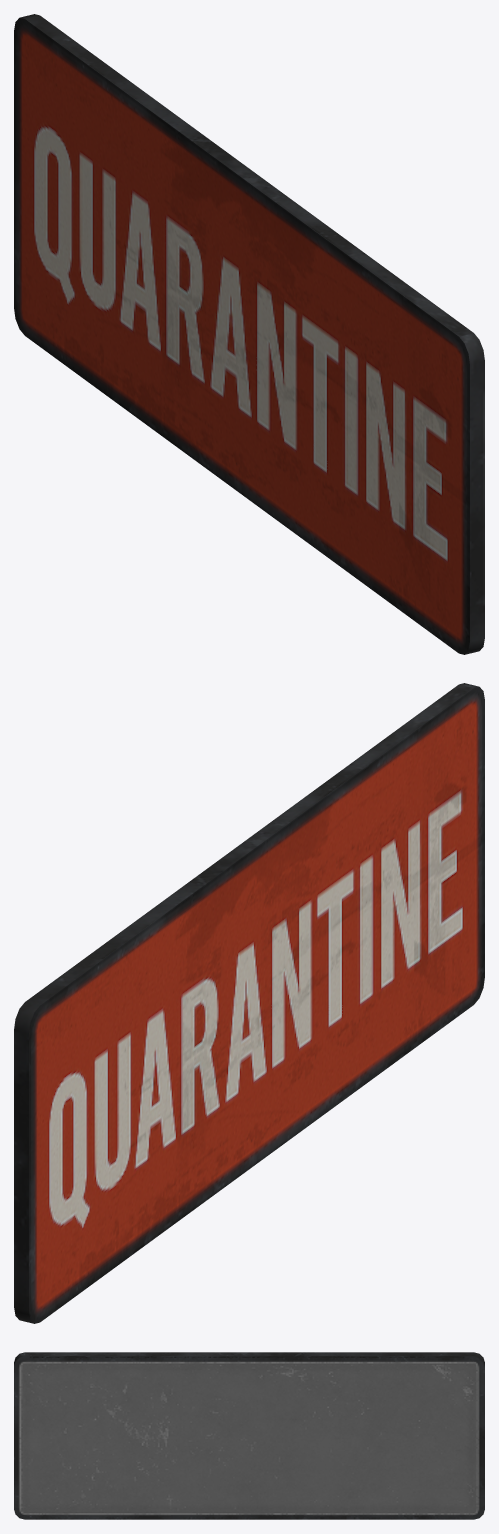
Rendered from HH_Sign_Quarantine.fbx.
3 views of the same model, one above another, from view 1: azimuth 30°, elevation 25°; view 2: azimuth 150°, elevation 25°; view 3: azimuth 270°, elevation 25° (orthographic). The views are drawn at different scales.
Parts seen in each view (by area): view 1: HH_Sign_Quarantine; view 2: HH_Sign_Quarantine; view 3: HH_Sign_Quarantine.
Boxes of the visible parts, x1,y1,x2,y2 form: HH_Sign_Quarantine: [14, 14, 484, 654]; HH_Sign_Quarantine: [14, 683, 484, 1323]; HH_Sign_Quarantine: [14, 1352, 484, 1519].
Size of the model in its own units: 1.72 by 34.65 by 90.39.
